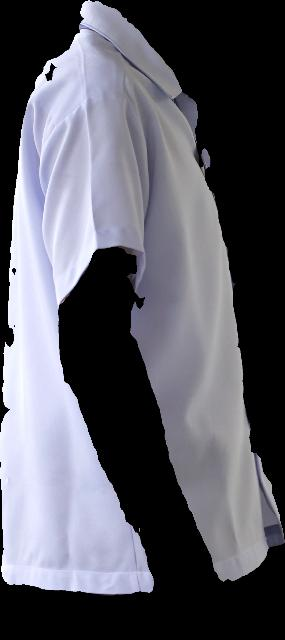poloboy: (0, 0, 284, 596)
